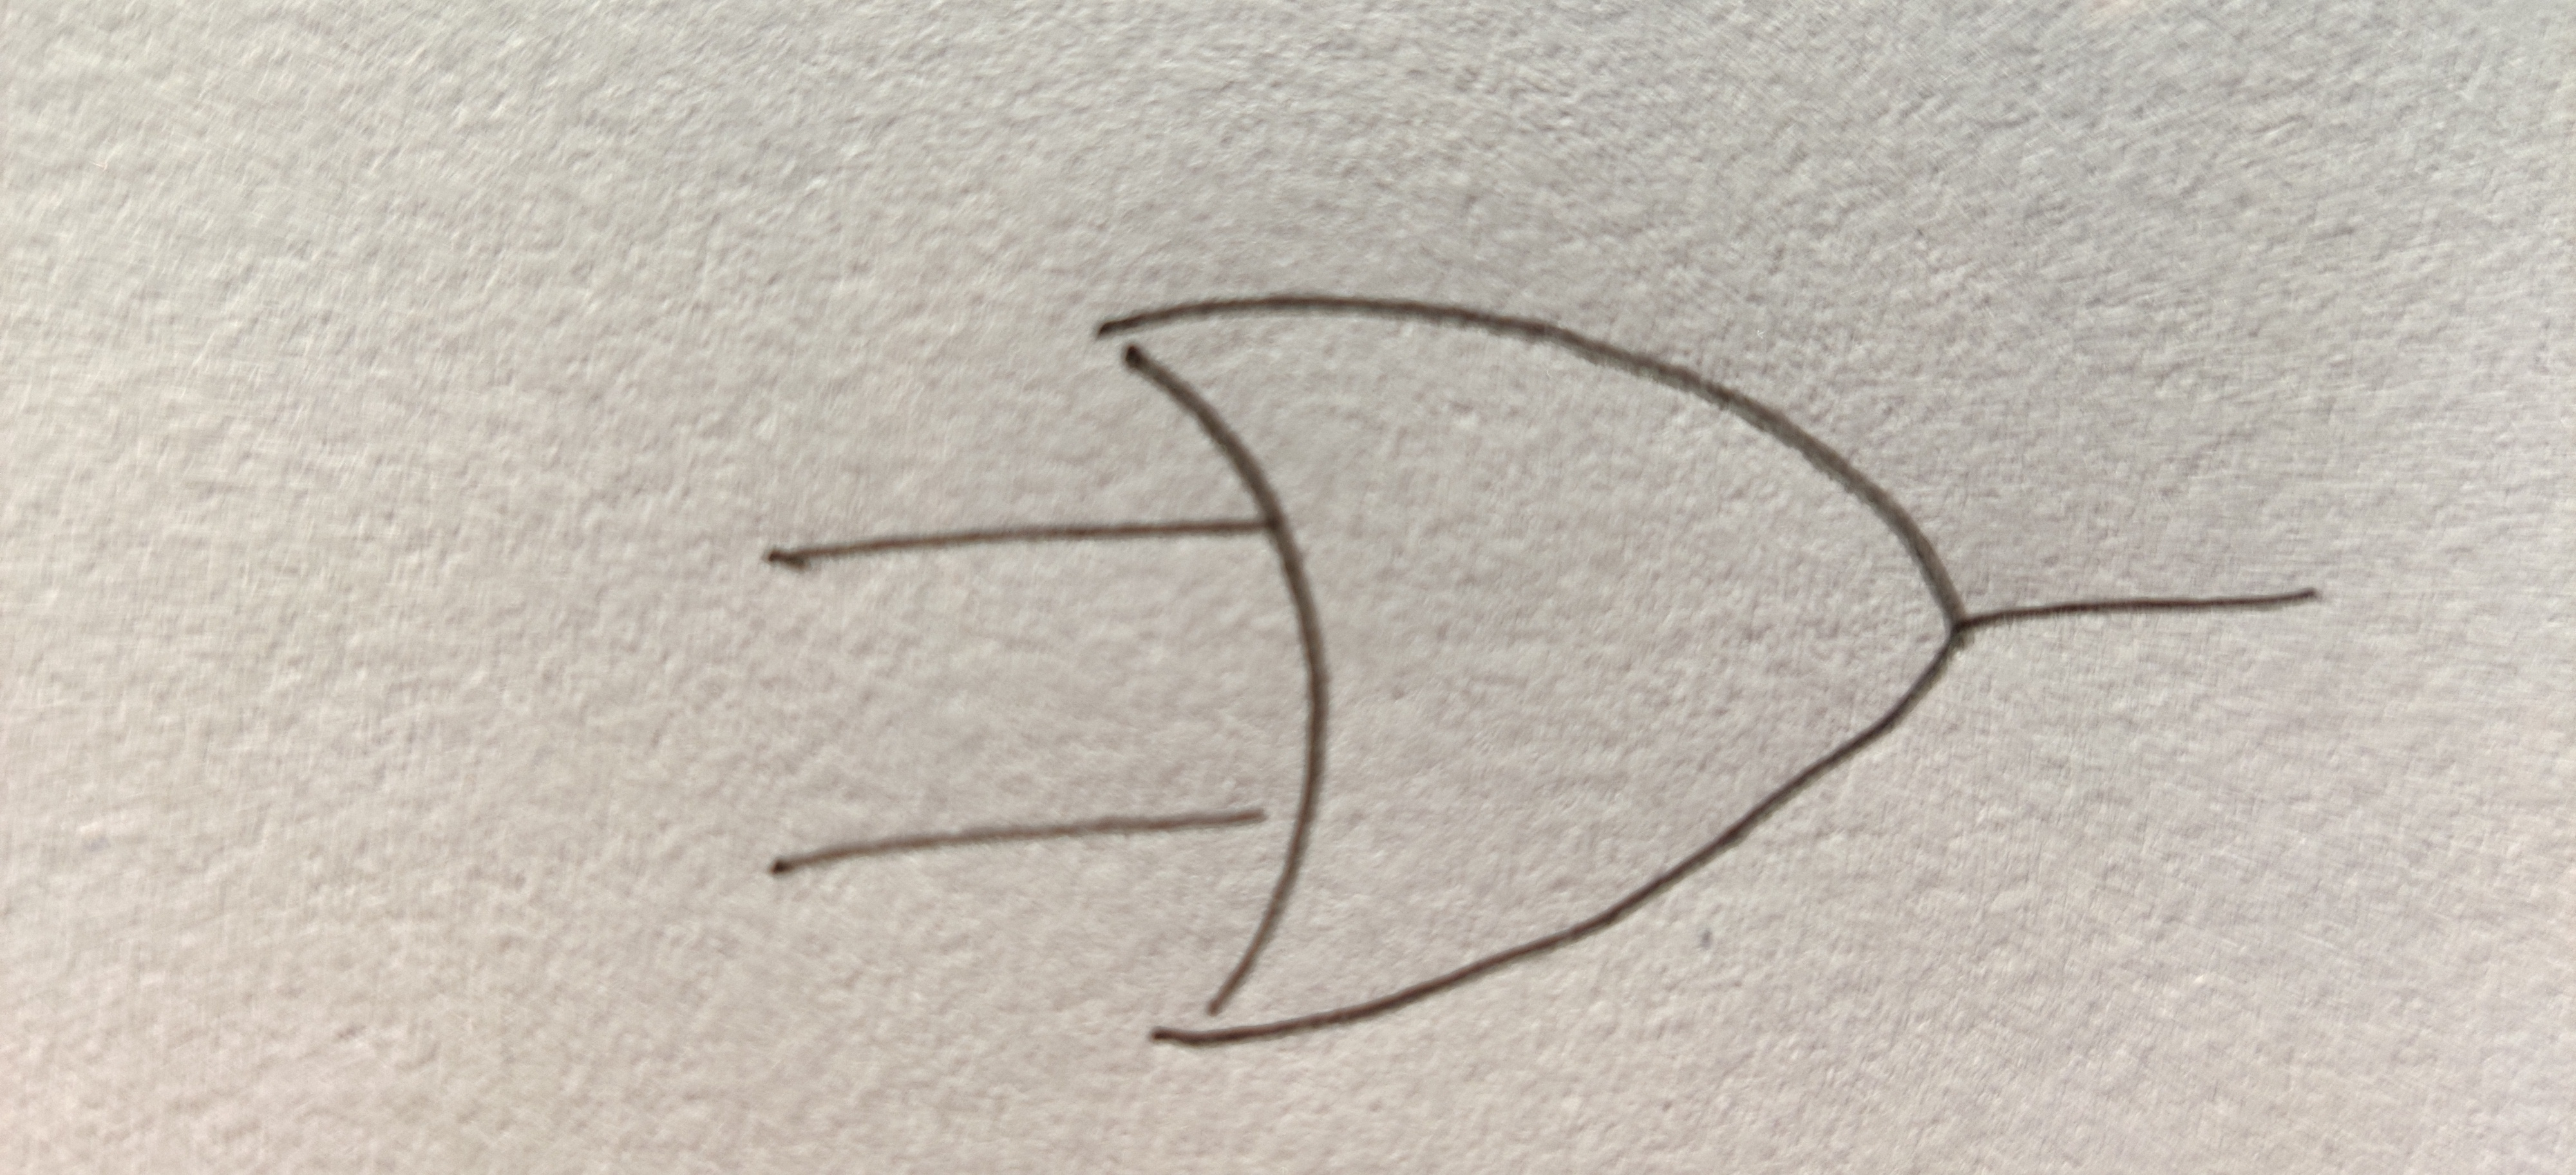or: (1102, 296, 1968, 1040)
